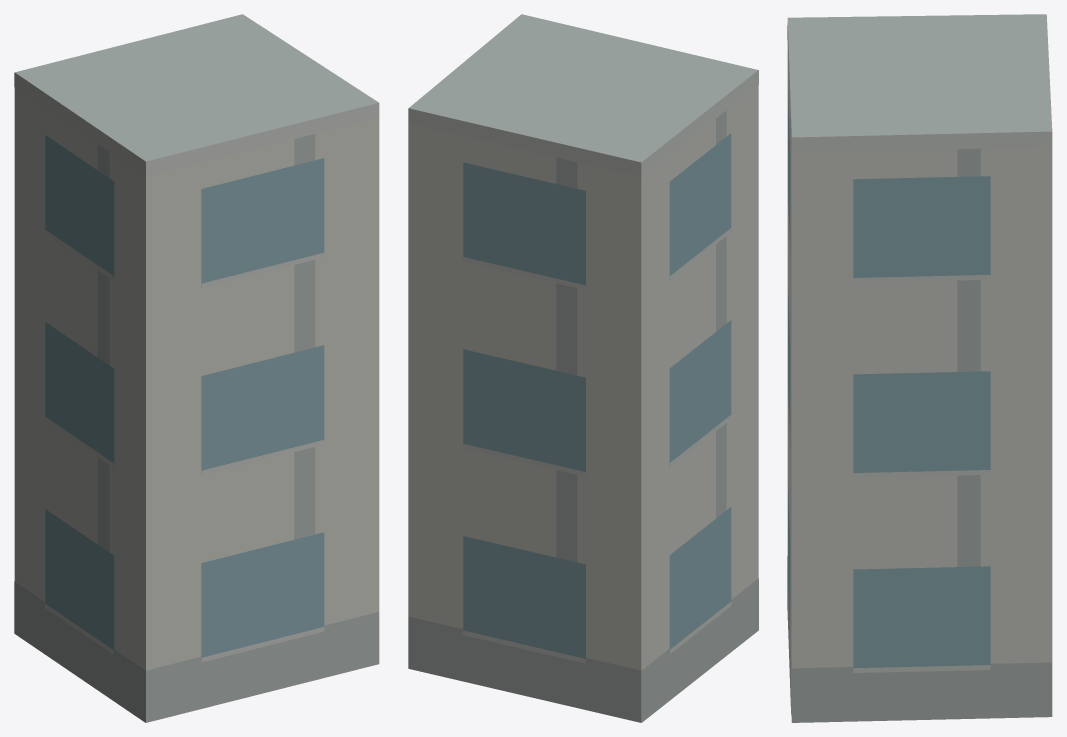
The model's file is survey-upis-32633952.glb.
The picture shows the model from 3 angles, left to right: view 1: azimuth 30°, elevation 25°; view 2: azimuth 150°, elevation 25°; view 3: azimuth 270°, elevation 25°; orthographic projection. The views are drawn at different scales.
Visible parts, largest first — view 1: survey-upis-32633952.tmp; view 2: survey-upis-32633952.tmp; view 3: survey-upis-32633952.tmp.
Part boxes in pixels (x1=…): survey-upis-32633952.tmp: x1=14, y1=14, x2=379, y2=722; survey-upis-32633952.tmp: x1=408, y1=14, x2=758, y2=722; survey-upis-32633952.tmp: x1=787, y1=14, x2=1052, y2=722.
Size of the model in its own units: 4.15 by 9.15 by 3.76.
